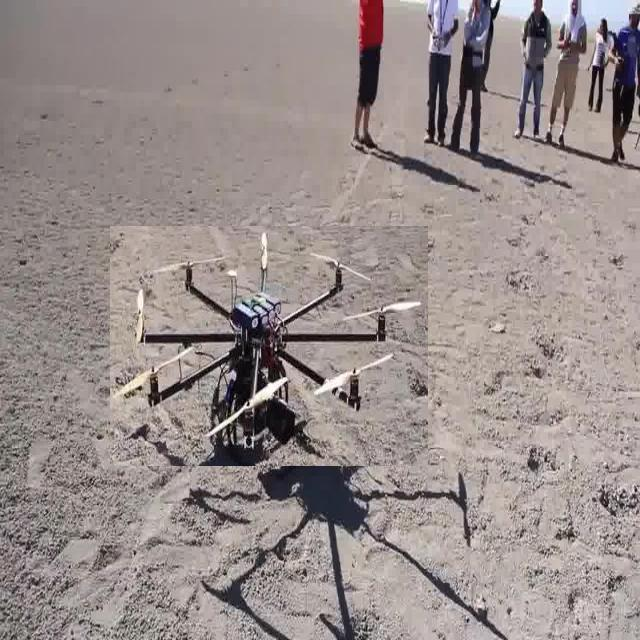drone: (110, 226, 428, 466)
